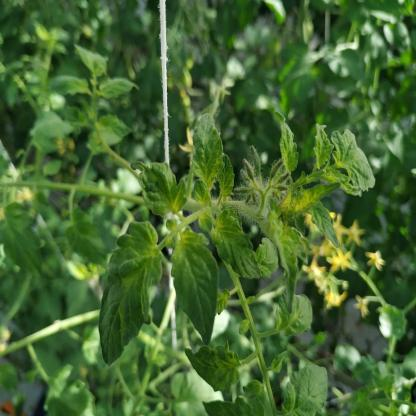T_L_H: (186, 342, 242, 393), (283, 365, 328, 416)
T_L_R: (99, 222, 163, 366), (172, 229, 220, 345), (213, 210, 262, 279), (133, 162, 187, 217), (332, 130, 376, 192), (194, 115, 224, 191)
